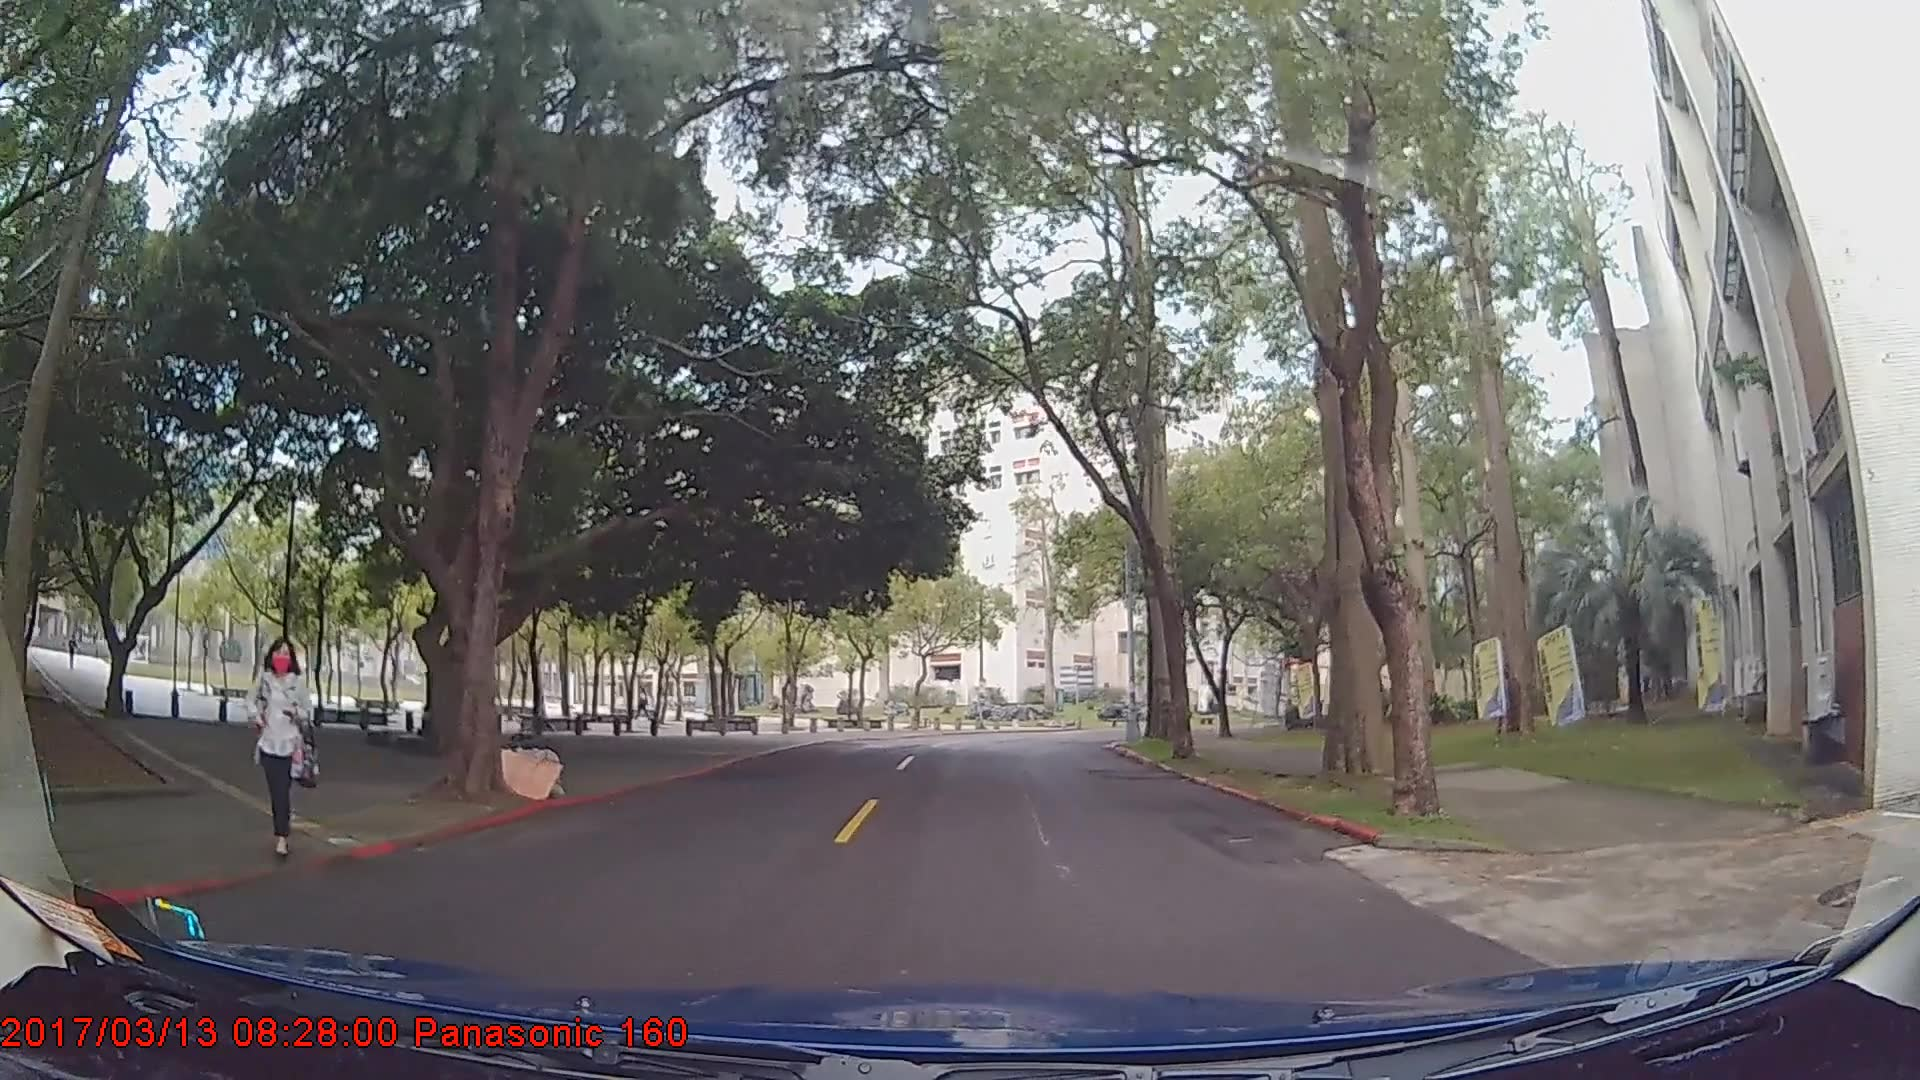pedestrian: (246, 635, 326, 861)
